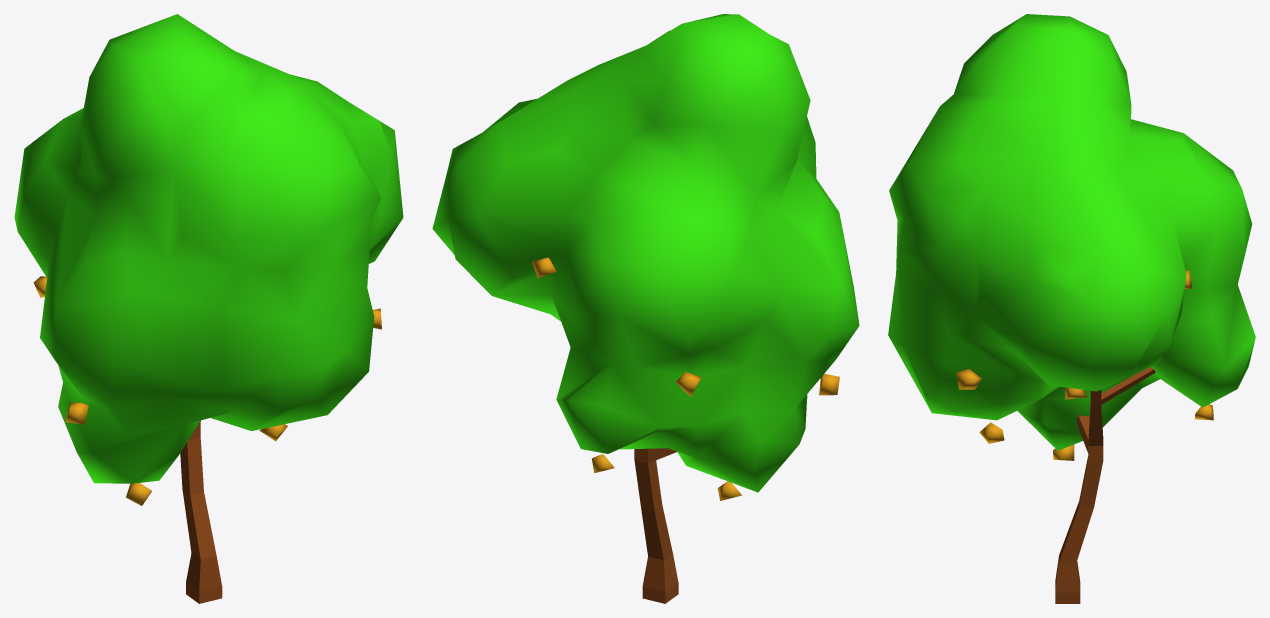
File: SM_OrangeTree_001_LOD5.fbx
3 views of the same model, side by side, from view 1: azimuth 30°, elevation 25°; view 2: azimuth 150°, elevation 25°; view 3: azimuth 270°, elevation 25° (orthographic). The views are drawn at different scales.
Parts seen in each view (by area): view 1: OrangeTree_01; view 2: OrangeTree_01; view 3: OrangeTree_01.
Part boxes in pixels (x1,y1,x2,y2): OrangeTree_01: (14,14,403,603); OrangeTree_01: (432,14,859,603); OrangeTree_01: (888,14,1255,603).
Size of the model in its own units: 185 by 276 by 166.
